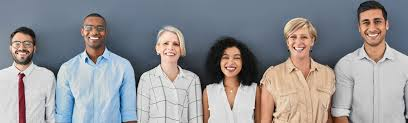person: (356, 1, 390, 47), (283, 17, 317, 59), (213, 39, 245, 79), (155, 25, 185, 64), (9, 26, 37, 65), (80, 12, 107, 49)
